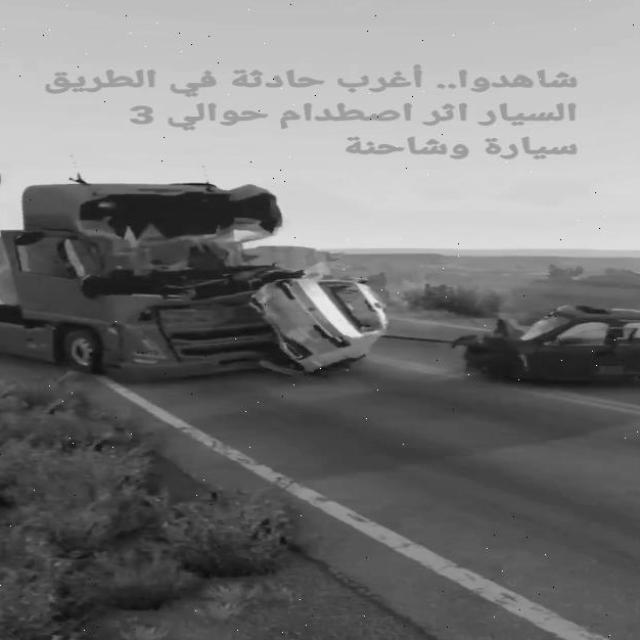accident: (0, 178, 394, 378)
